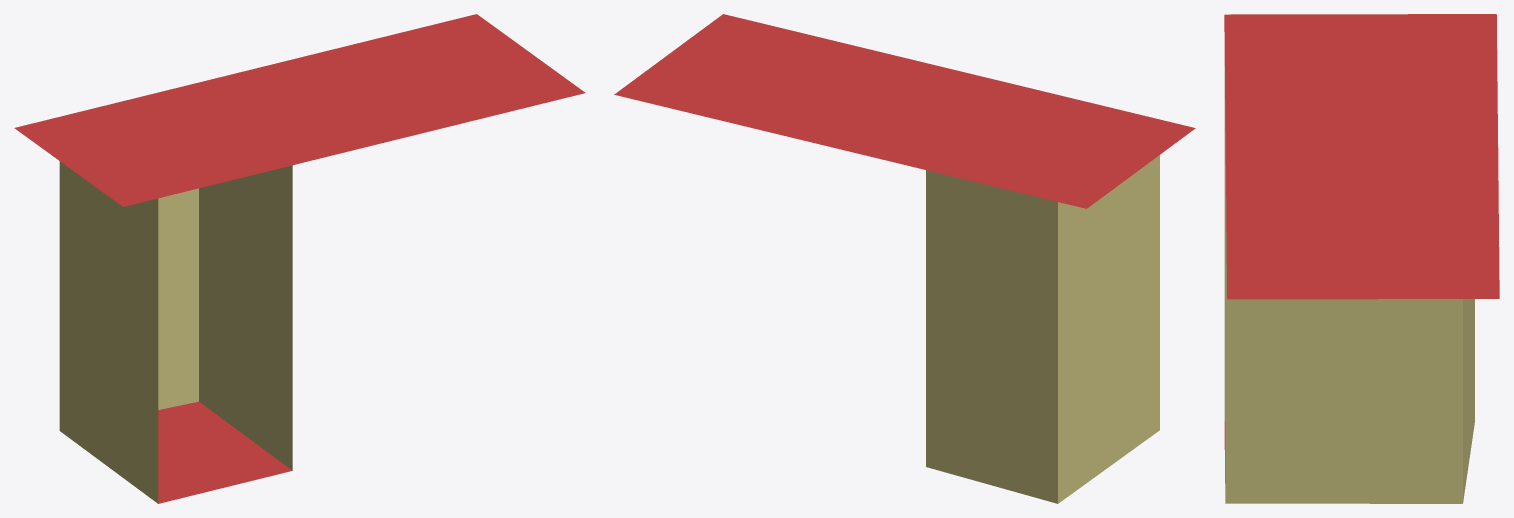
3 views of the same model, side by side, from view 1: azimuth 30°, elevation 25°; view 2: azimuth 150°, elevation 25°; view 3: azimuth 270°, elevation 25° (orthographic). The views are drawn at different scales.
Size of the model in its own units: 8.9 by 3.63 by 5.59.
